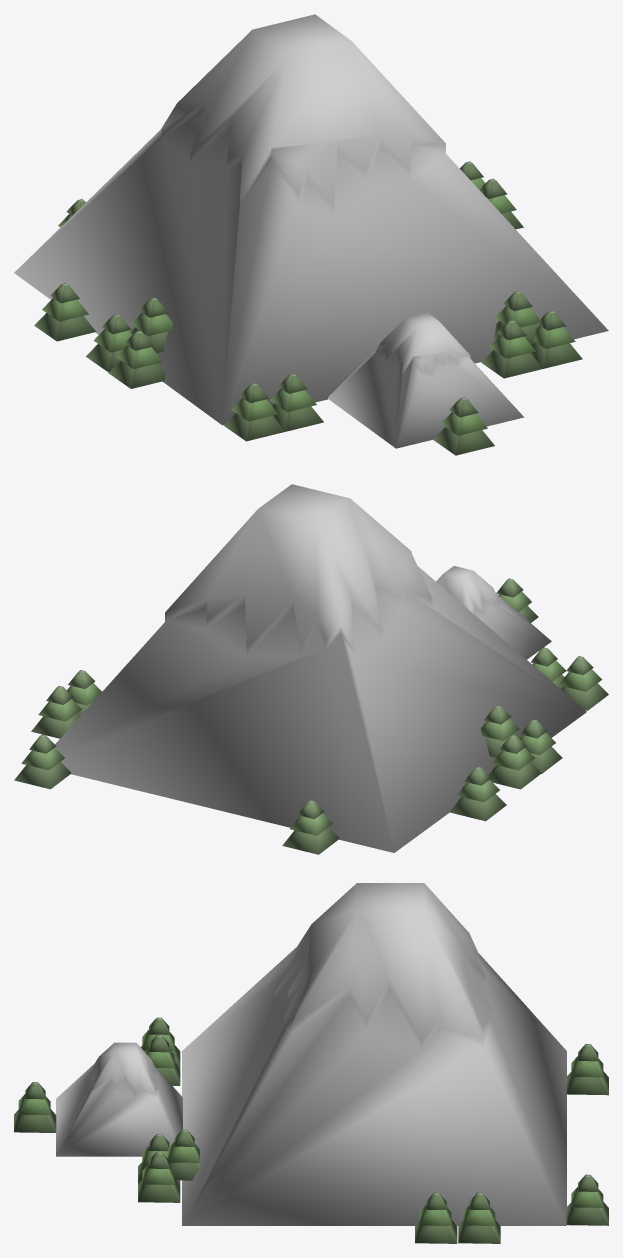
File: Mountain.fbx
3 renders of one model, top to bottom at view 1: azimuth 30°, elevation 25°; view 2: azimuth 150°, elevation 25°; view 3: azimuth 270°, elevation 25°, orthographic. The views are drawn at different scales.
Parts seen in each view (by area): view 1: BigMountain, SmallMountain, Tree_005, Tree_004, Tree_008, Tree, Tree_006, Tree_003, Tree_001, Tree_007, Tree_012, Tree_013 (+1 smaller); view 2: BigMountain, SmallMountain, Tree_008, Tree_009, Tree_002, Tree_007, Tree_004, Tree_010, Tree_006, Tree_012, Tree_011, Tree_005 (+1 smaller); view 3: BigMountain, SmallMountain, Tree_009, Tree_011, Tree_010, Tree_002, Tree_005, Tree_001, Tree_013, Tree_003, Tree_004, Tree.
Boxes of the visible parts, bbox=[...] form: BigMountain: bbox=[14, 14, 608, 425]; SmallMountain: bbox=[328, 312, 524, 448]; Tree_005: bbox=[433, 397, 494, 455]; Tree_004: bbox=[223, 383, 285, 441]; Tree_008: bbox=[34, 283, 96, 341]; Tree: bbox=[481, 320, 543, 378]; Tree_006: bbox=[108, 330, 165, 388]; Tree_003: bbox=[270, 373, 323, 431]; Tree_001: bbox=[531, 310, 582, 368]; Tree_007: bbox=[86, 314, 131, 372]; Tree_012: bbox=[130, 297, 173, 353]; Tree_013: bbox=[494, 291, 539, 344]; BigMountain: bbox=[55, 484, 586, 852]; SmallMountain: bbox=[436, 566, 551, 659]; Tree_008: bbox=[449, 766, 506, 821]; Tree_009: bbox=[14, 734, 71, 789]; Tree_002: bbox=[282, 800, 339, 854]; Tree_007: bbox=[489, 734, 541, 789]; Tree_004: bbox=[558, 656, 608, 710]; Tree_010: bbox=[31, 686, 81, 738]; Tree_006: bbox=[520, 719, 562, 773]; Tree_012: bbox=[480, 705, 520, 757]; Tree_011: bbox=[67, 670, 101, 715]; Tree_005: bbox=[496, 578, 538, 622]; BigMountain: bbox=[182, 883, 566, 1225]; SmallMountain: bbox=[56, 1042, 182, 1156]; Tree_009: bbox=[566, 1174, 608, 1225]; Tree_011: bbox=[415, 1192, 457, 1243]; Tree_010: bbox=[458, 1192, 500, 1243]; Tree_002: bbox=[566, 1044, 608, 1095]; Tree_005: bbox=[14, 1082, 56, 1132]; Tree_001: bbox=[138, 1151, 180, 1202]; Tree_013: bbox=[167, 1129, 199, 1180]; Tree_003: bbox=[144, 1035, 180, 1085]; Tree_004: bbox=[140, 1017, 180, 1068]; Tree: bbox=[138, 1134, 180, 1184].
Size of the model in its own units: 5.67 by 3.02 by 6.76.
